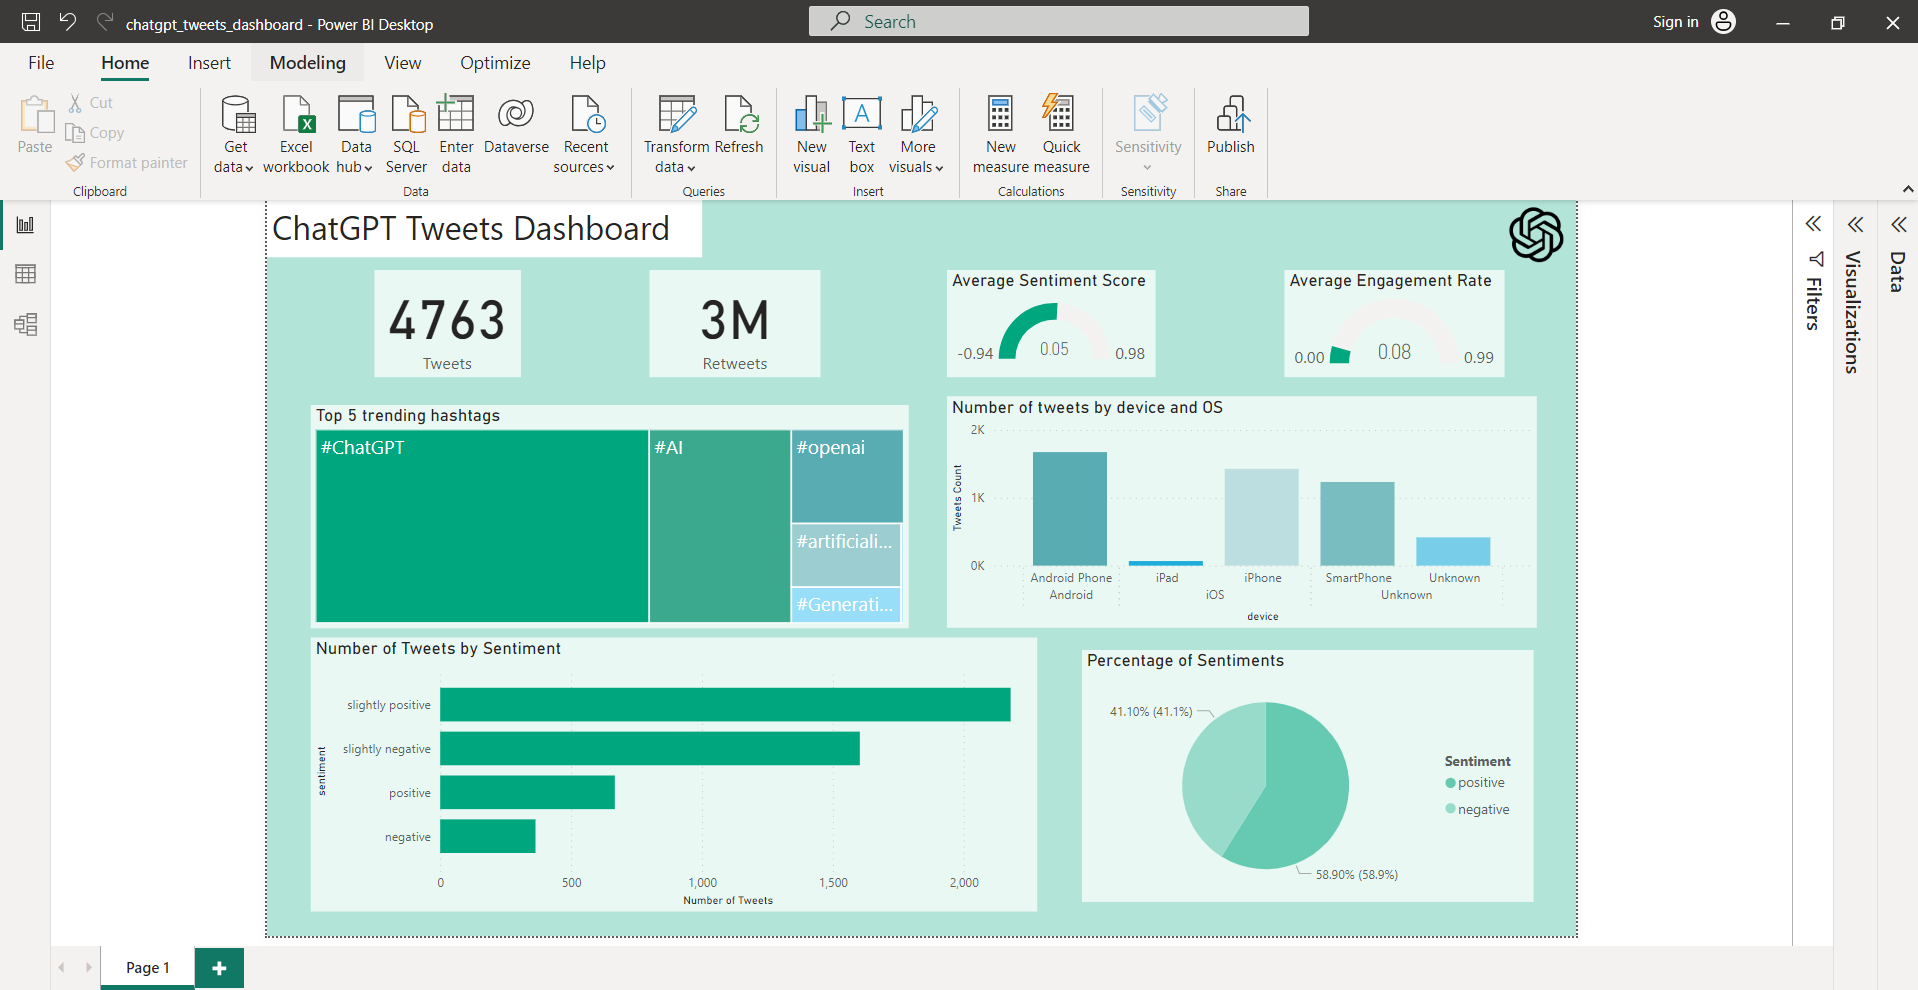

This screenshot's page, from the dashboard's own definition file:
{"tool":"powerbi","page":{"name":"Page 1","canvas":[1280,720],"ordinal":0},"visuals":[{"type":"textbox","box":[0,0,425.4,56.3],"z":0},{"type":"gauge","title":"Average Engagement Rate","fields":{"Y":["Avg(tweets_fact.engagement_rate)"],"MinValue":["Min(tweets_fact.engagement_rate)1"],"MaxValue":["Max(tweets_fact.engagement_rate)2"]},"box":[995,68.5,215.1,105.1],"z":1000},{"type":"card","fields":{"Values":["Sum(tweets_fact.retweet_count)"]},"box":[374.1,68.5,167.5,105.1],"z":2000},{"type":"card","fields":{"Values":["Count(tweets_fact.tw_id)"]},"box":[105.1,68.5,143,105.1],"z":4000},{"type":"pieChart","title":"Percentage of Sentiments","fields":{"Category":["sentiment_dim.general_sentiment"],"Y":["CountNonNull(sentiment_dim.tw_id)"]},"box":[796.7,440,441.7,246.7],"z":6000},{"type":"treemap","title":"Top 5 trending hashtags","fields":{"Group":["hashtag_dim.hashtag"],"Values":["CountNonNull(hashtag_dim.normalized_hashtag)"]},"box":[43.3,200,585,218.3],"z":7000},{"type":"barChart","title":"Number of Tweets by Sentiment","fields":{"Y":["Count(sentiment_dim.tw_id)"],"Category":["sentiment_dim.sentiment"]},"box":[43.3,428.3,710,268.3],"z":8000},{"type":"gauge","title":"Average Sentiment Score","fields":{"Y":["Avg(sentiment_dim.score)"],"MinValue":["Min(sentiment_dim.score)1"],"MaxValue":["Max(sentiment_dim.score)2"]},"box":[665,68.5,204.1,105.1],"z":9000},{"type":"clusteredColumnChart","title":"Number of tweets by device and OS","fields":{"Category":["device_dim.operating_system","device_dim.device"],"Y":["CountNonNull(device_dim.tw_id)"]},"box":[665,191.7,576.7,226.7],"z":10000},{"type":"image","box":[1210,0,62.5,68.8],"z":11000}]}

Visuals, with their boxes on the page's 1280x720 design canvas (x1, y1, x2, y2). These are canvas units, not pixel positions in the 1918x990 screenshot, which may show the page scaled, cropped or inside an application window:
textbox: 0,0,425,56
"Average Engagement Rate" gauge: 995,68,1210,174
card - Sum(tweets_fact.retweet_count): 374,68,542,174
card - Count(tweets_fact.tw_id): 105,68,248,174
"Percentage of Sentiments" pieChart: 797,440,1238,687
"Top 5 trending hashtags" treemap: 43,200,628,418
"Number of Tweets by Sentiment" barChart: 43,428,753,697
"Average Sentiment Score" gauge: 665,68,869,174
"Number of tweets by device and OS" clusteredColumnChart: 665,192,1242,418
image: 1210,0,1272,69
